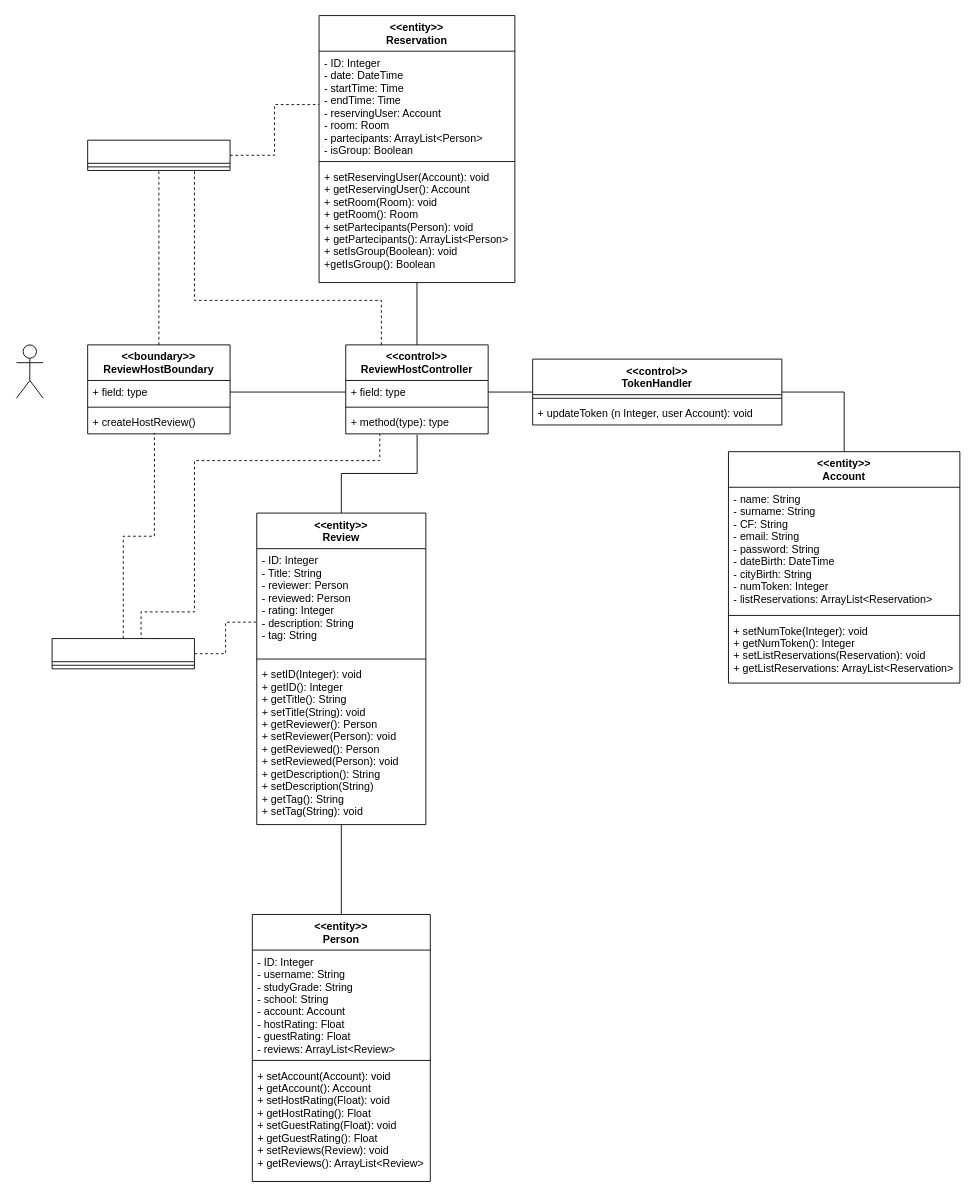
This 975x1200 diagram has some shape labels left out. The shapes that lost their labels are listed below. From the top down, each one's box as (x1, y1, x2, y2) in pixels, then its label:
(87, 139, 230, 170): ReservationBean
(16, 344, 43, 398): Guest
(51, 638, 194, 669): ReviewBean
